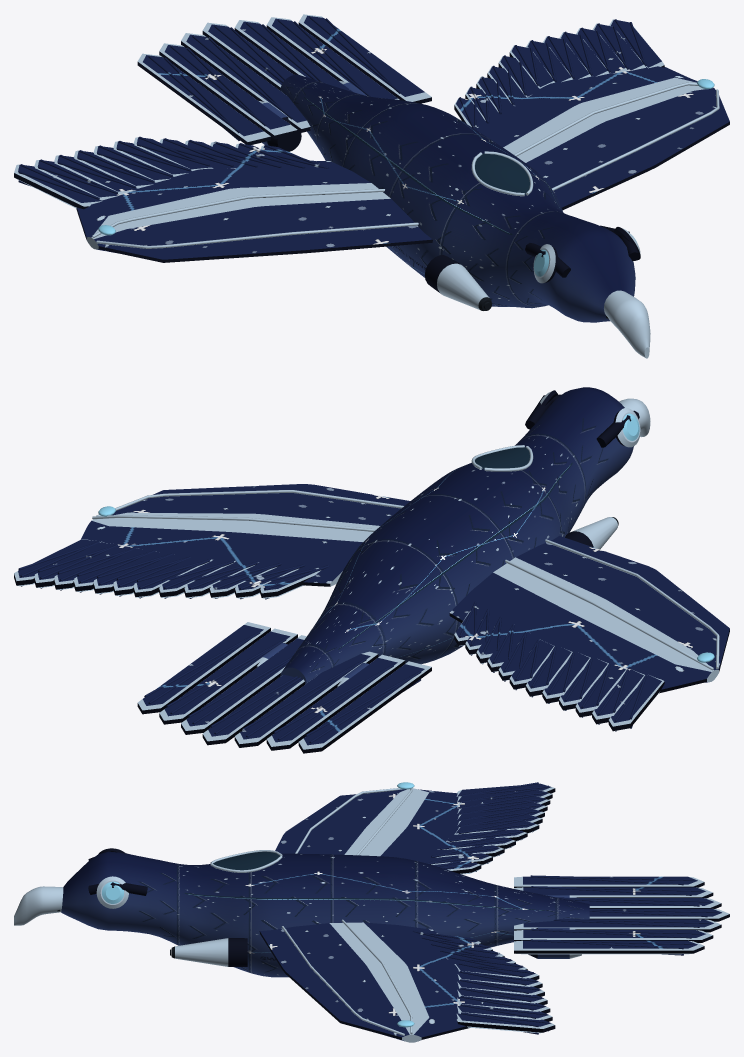
The picture shows the model from 3 angles, top to bottom: view 1: azimuth 30°, elevation 25°; view 2: azimuth 150°, elevation 25°; view 3: azimuth 270°, elevation 25°; orthographic projection. The views are drawn at different scales.
Visible parts, largest first — view 1: shrike_hull; view 2: shrike_hull; view 3: shrike_hull.
Part boxes in pixels (x1=…): shrike_hull: x1=14, y1=14, x2=729, y2=358; shrike_hull: x1=14, y1=387, x2=729, y2=753; shrike_hull: x1=14, y1=782, x2=729, y2=1042.
Bounding box in the file's own units: 13.49 × 2.96 × 16.5.
1 material, 1 textured.
